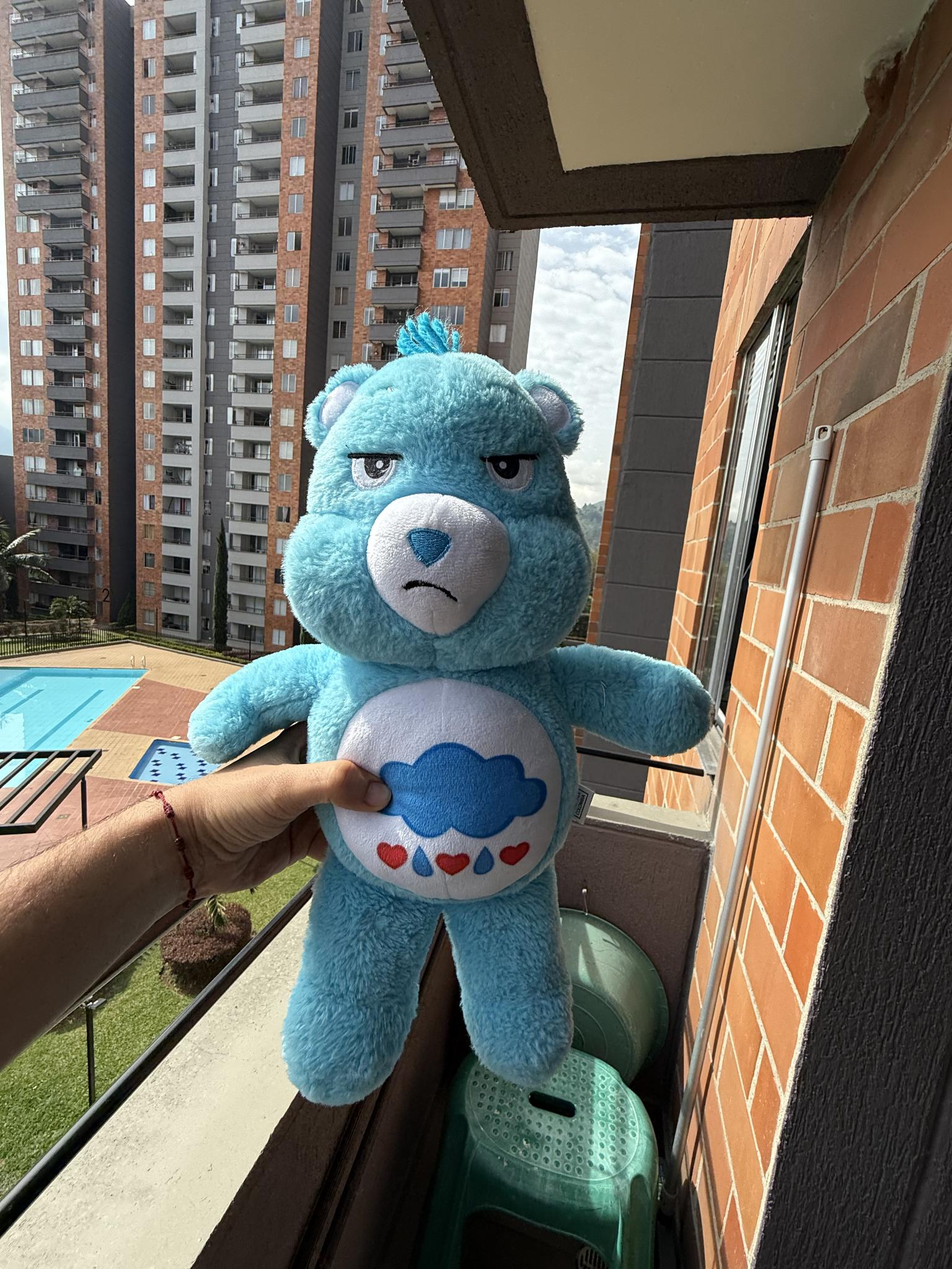peluche_Juan Jose: (188, 310, 716, 1102)
